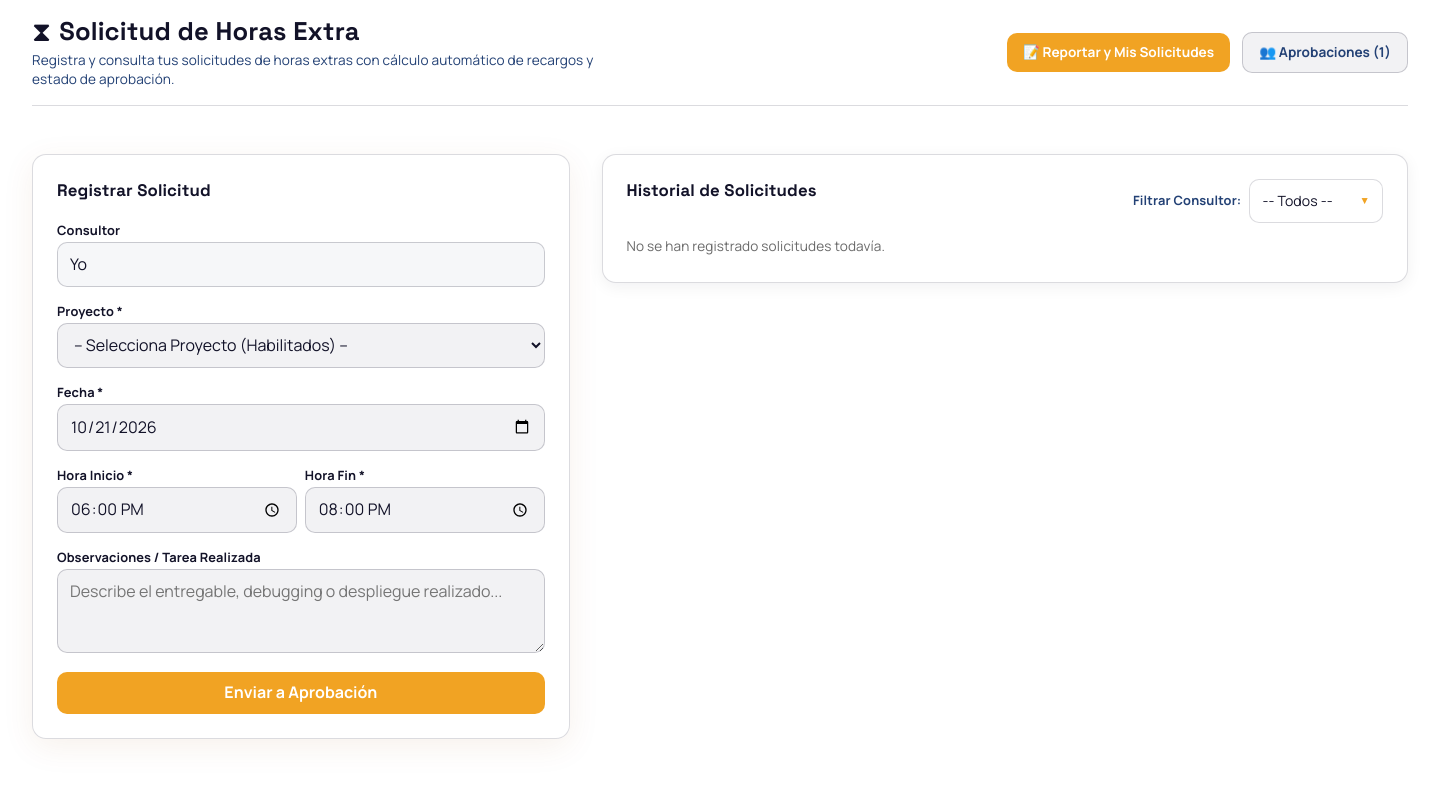
Scenario: Aprobación de horas extra: solo el PM del proyecto › el buzón del PM muestra solo las solicitudes de sus proyectos
Click the button "👥 Aprobaciones (1)" at x=1325, y=52, box [1242, 32, 1408, 73]
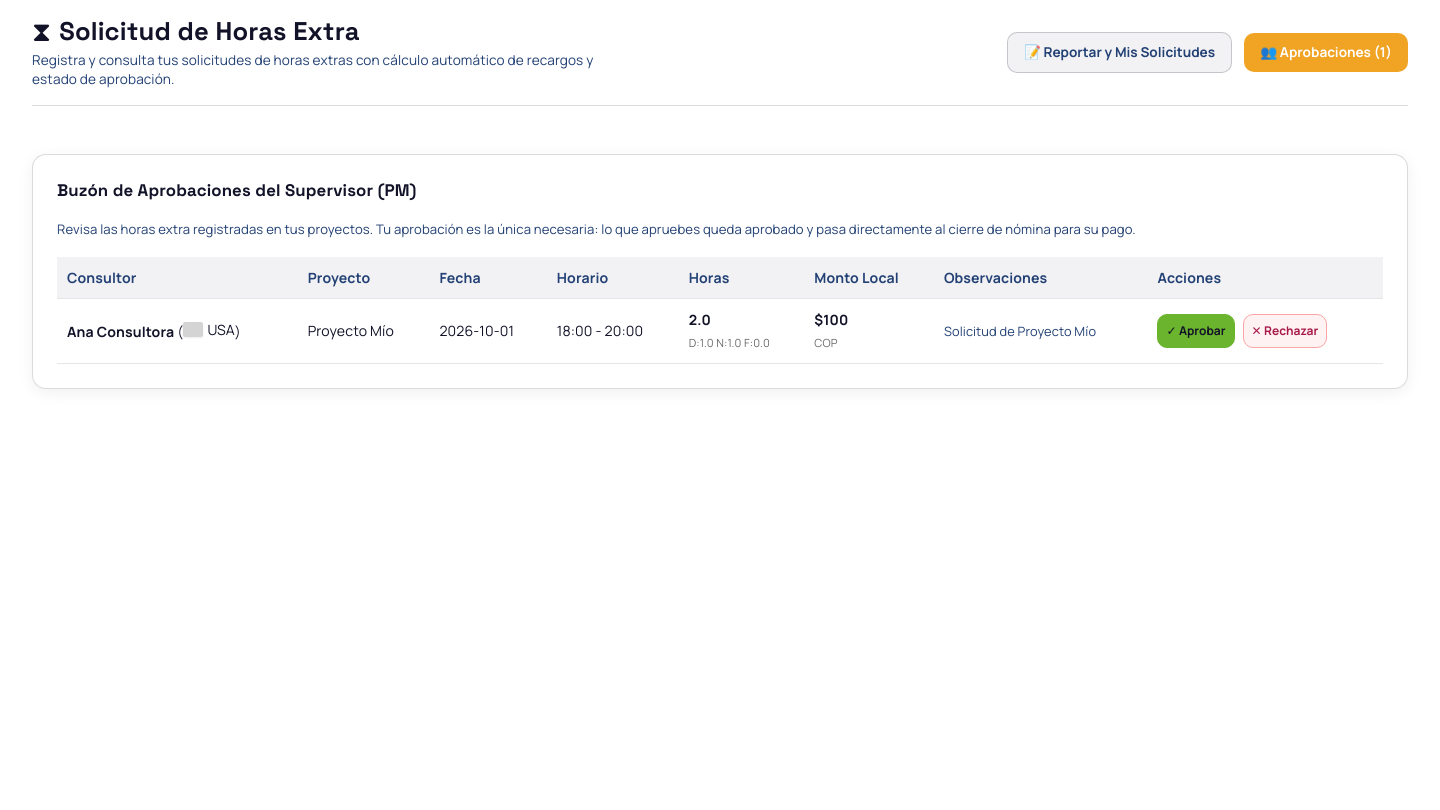
Expected: the text "Solicitud de Proyecto Mío" is shown, [944, 322, 1096, 340]
